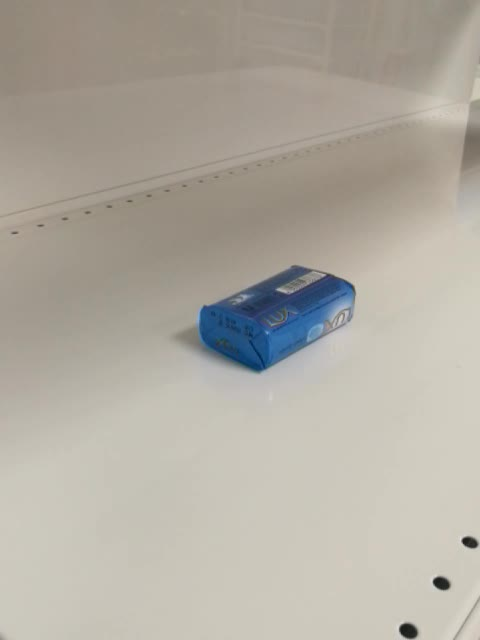soap: (197, 261, 358, 374)
